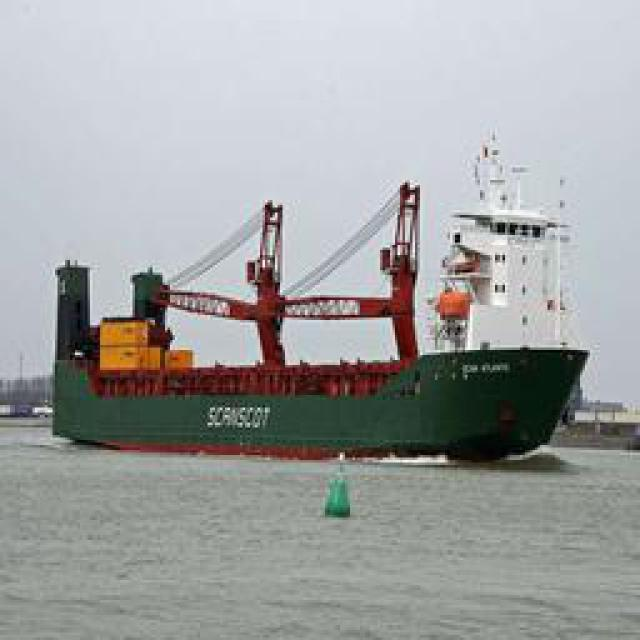Ship: (32, 130, 592, 463)
